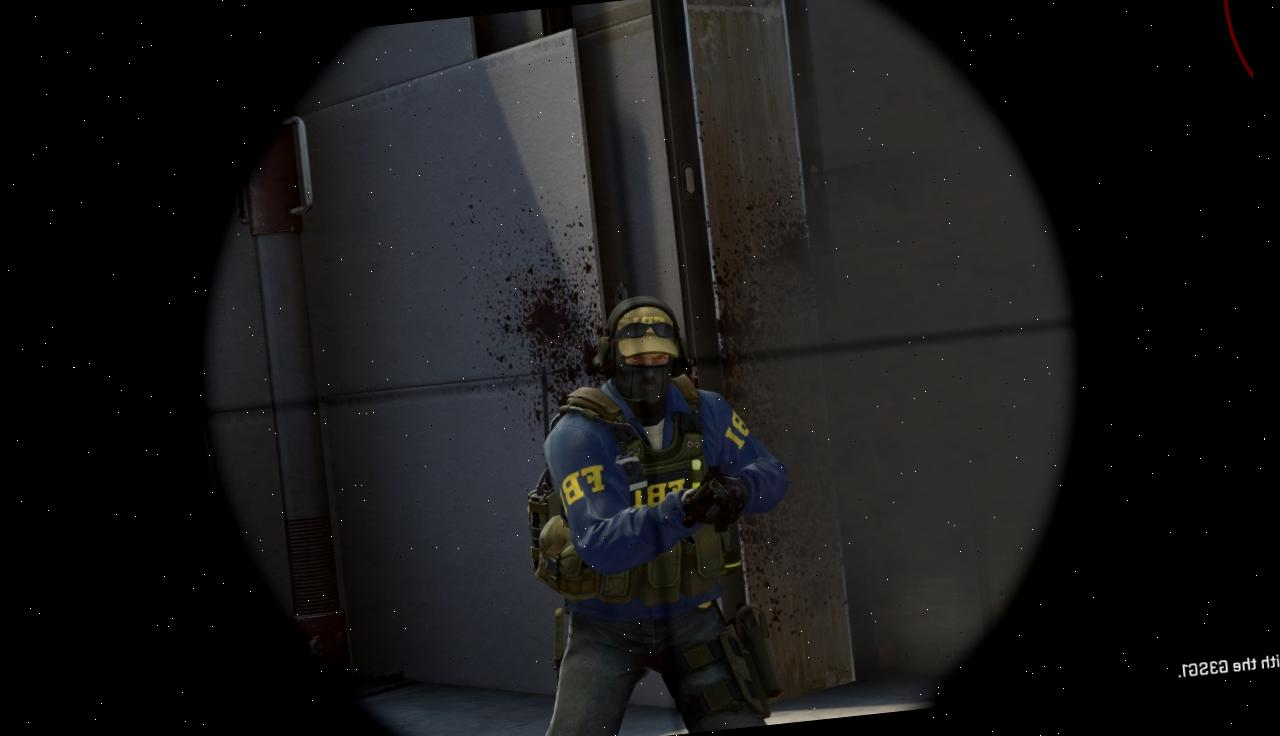ct: (530, 286, 768, 736)
cthead: (604, 298, 689, 410)
